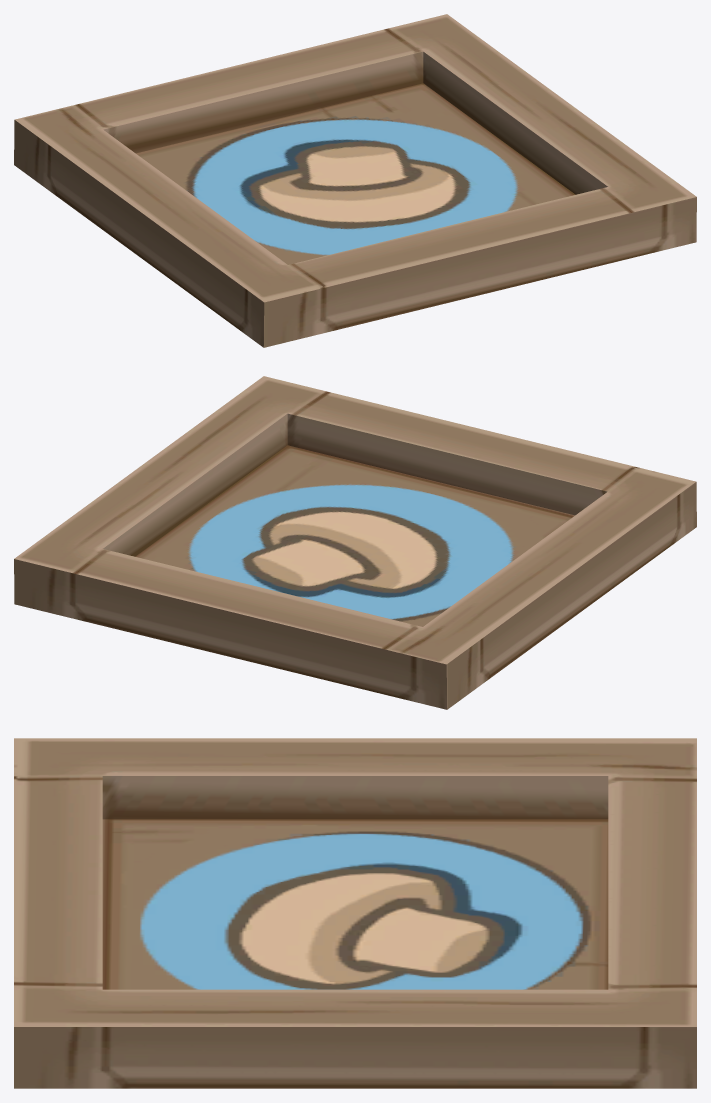
File: CrateLid_Mushroom.obj
3 views of the same model, one above another, from view 1: azimuth 30°, elevation 25°; view 2: azimuth 150°, elevation 25°; view 3: azimuth 270°, elevation 25° (orthographic). The views are drawn at different scales.
Parts seen in each view (by area): view 1: CrateLid_mesh-sharedassets2.assets-136; view 2: CrateLid_mesh-sharedassets2.assets-136; view 3: CrateLid_mesh-sharedassets2.assets-136.
Part boxes in pixels (x1,y1,x2,y2): CrateLid_mesh-sharedassets2.assets-136: [14, 14, 696, 347]; CrateLid_mesh-sharedassets2.assets-136: [14, 376, 696, 709]; CrateLid_mesh-sharedassets2.assets-136: [14, 738, 696, 1088].
Size of the model in its own units: 1 by 0.1 by 1.
